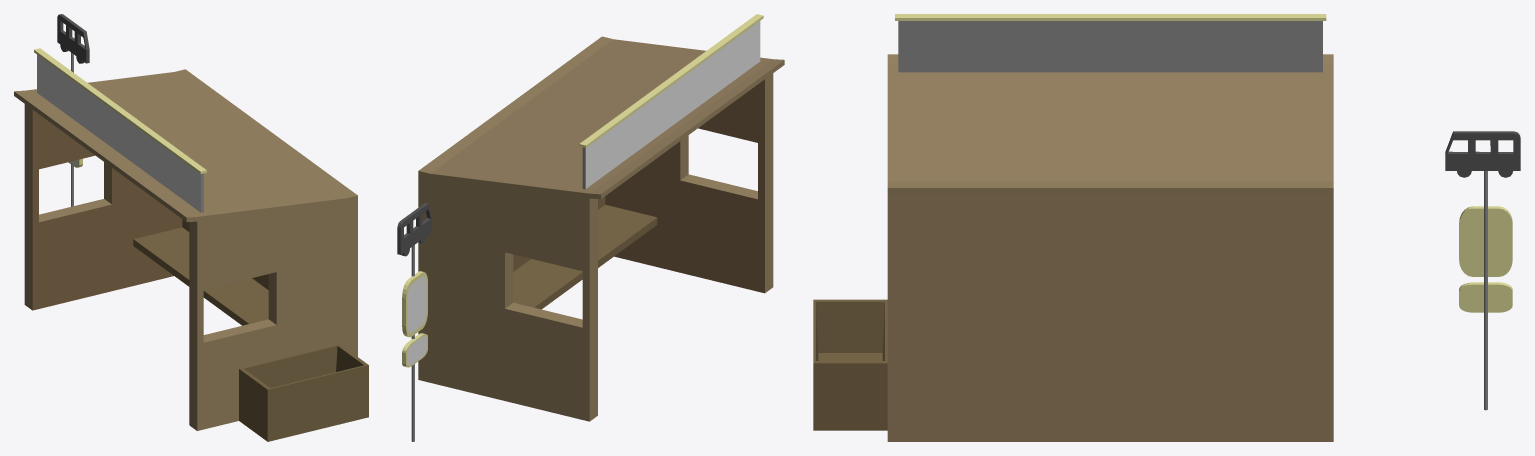
Rendered from ParadaBus.fbx.
The picture shows the model from 3 angles, left to right: view 1: azimuth 30°, elevation 25°; view 2: azimuth 150°, elevation 25°; view 3: azimuth 270°, elevation 25°; orthographic projection. The views are drawn at different scales.
Visible parts, largest first — view 1: Cube, Cube.002, Cube.001, Plane; view 2: Cube, Cube.001, Cube.003, Plane, Cube.004, Cylinder; view 3: Cube, Cube.001, Cube.002, Cube.003, Plane, Cube.004, Cylinder.
Boxes of the visible parts, x1,y1,x2,y2 form: Cube: [14, 69, 357, 430]; Cube.002: [239, 344, 368, 441]; Cube.001: [34, 48, 206, 212]; Plane: [57, 14, 89, 63]; Cube: [418, 36, 784, 421]; Cube.001: [579, 14, 763, 189]; Cube.003: [402, 271, 427, 337]; Plane: [397, 203, 431, 256]; Cube.004: [402, 333, 427, 367]; Cylinder: [411, 245, 414, 441]; Cube: [887, 54, 1333, 441]; Cube.001: [895, 14, 1326, 72]; Cube.002: [813, 299, 887, 430]; Cube.003: [1459, 206, 1512, 276]; Plane: [1445, 131, 1520, 177]; Cube.004: [1459, 282, 1512, 312]; Cylinder: [1484, 171, 1487, 410].
Size of the model in its own units: 341 by 488 by 941.
